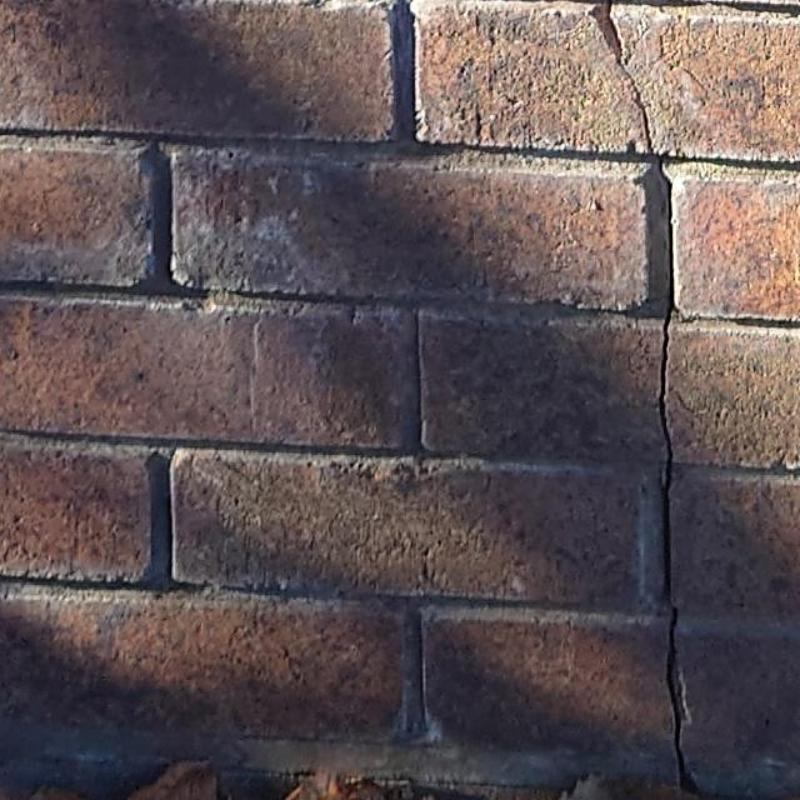pothole: (658, 156, 682, 604), (591, 0, 652, 151), (665, 606, 704, 800)
